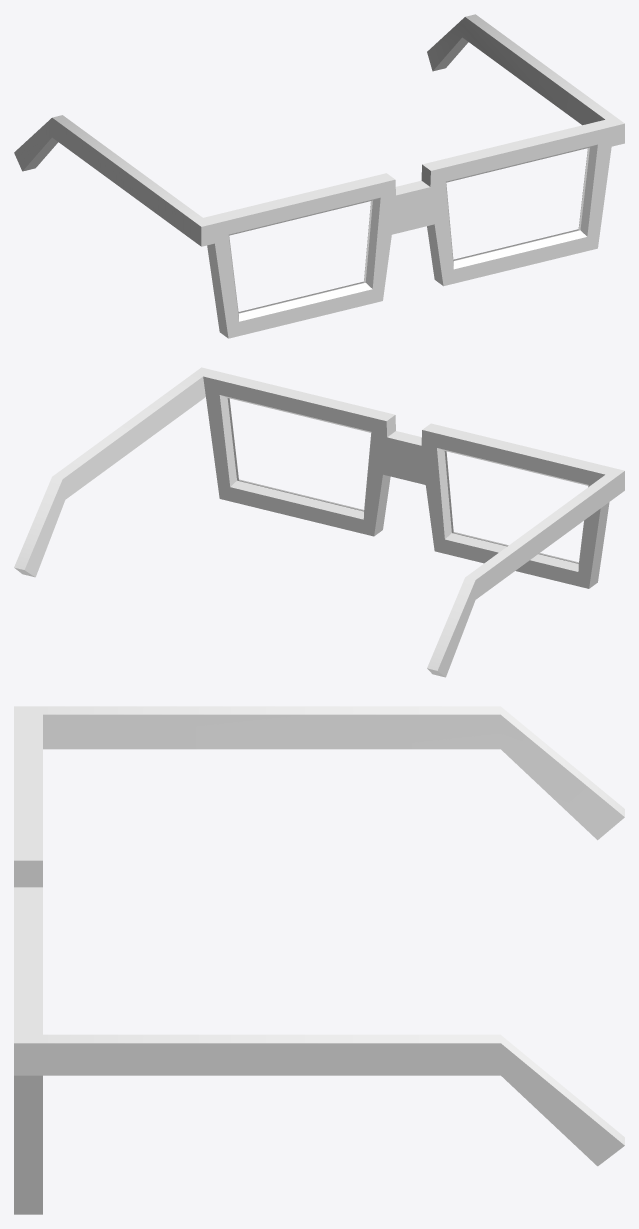
Rendered from glasses_redblue.fbx.
3 views of the same model, one above another, from view 1: azimuth 30°, elevation 25°; view 2: azimuth 150°, elevation 25°; view 3: azimuth 270°, elevation 25° (orthographic). The views are drawn at different scales.
Visible parts, largest first — view 1: glasses_redblue; view 2: glasses_redblue; view 3: glasses_redblue.
Boxes of the visible parts, x1,y1,x2,y2 form: glasses_redblue: (14,14,624,338); glasses_redblue: (14,367,624,677); glasses_redblue: (14,706,624,1214).
Bounding box in the file's own units: 123 × 32.87 × 94.37.
Materials: 1 (1 with a texture image).
